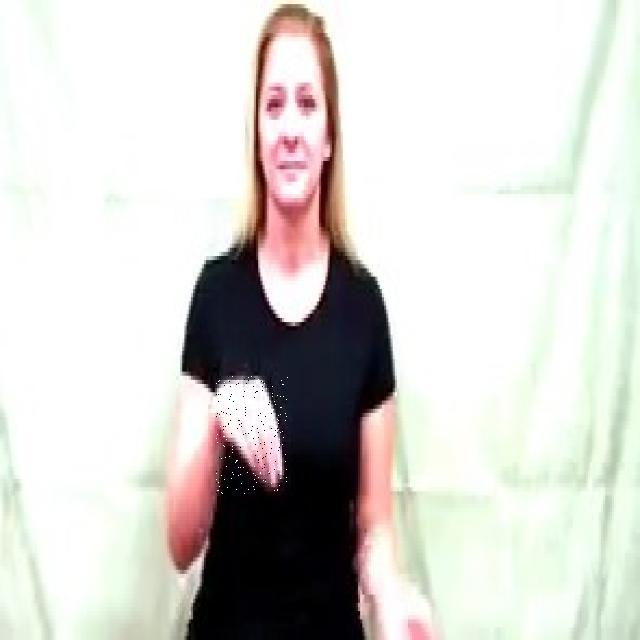ingredients: (216, 376, 288, 494)
